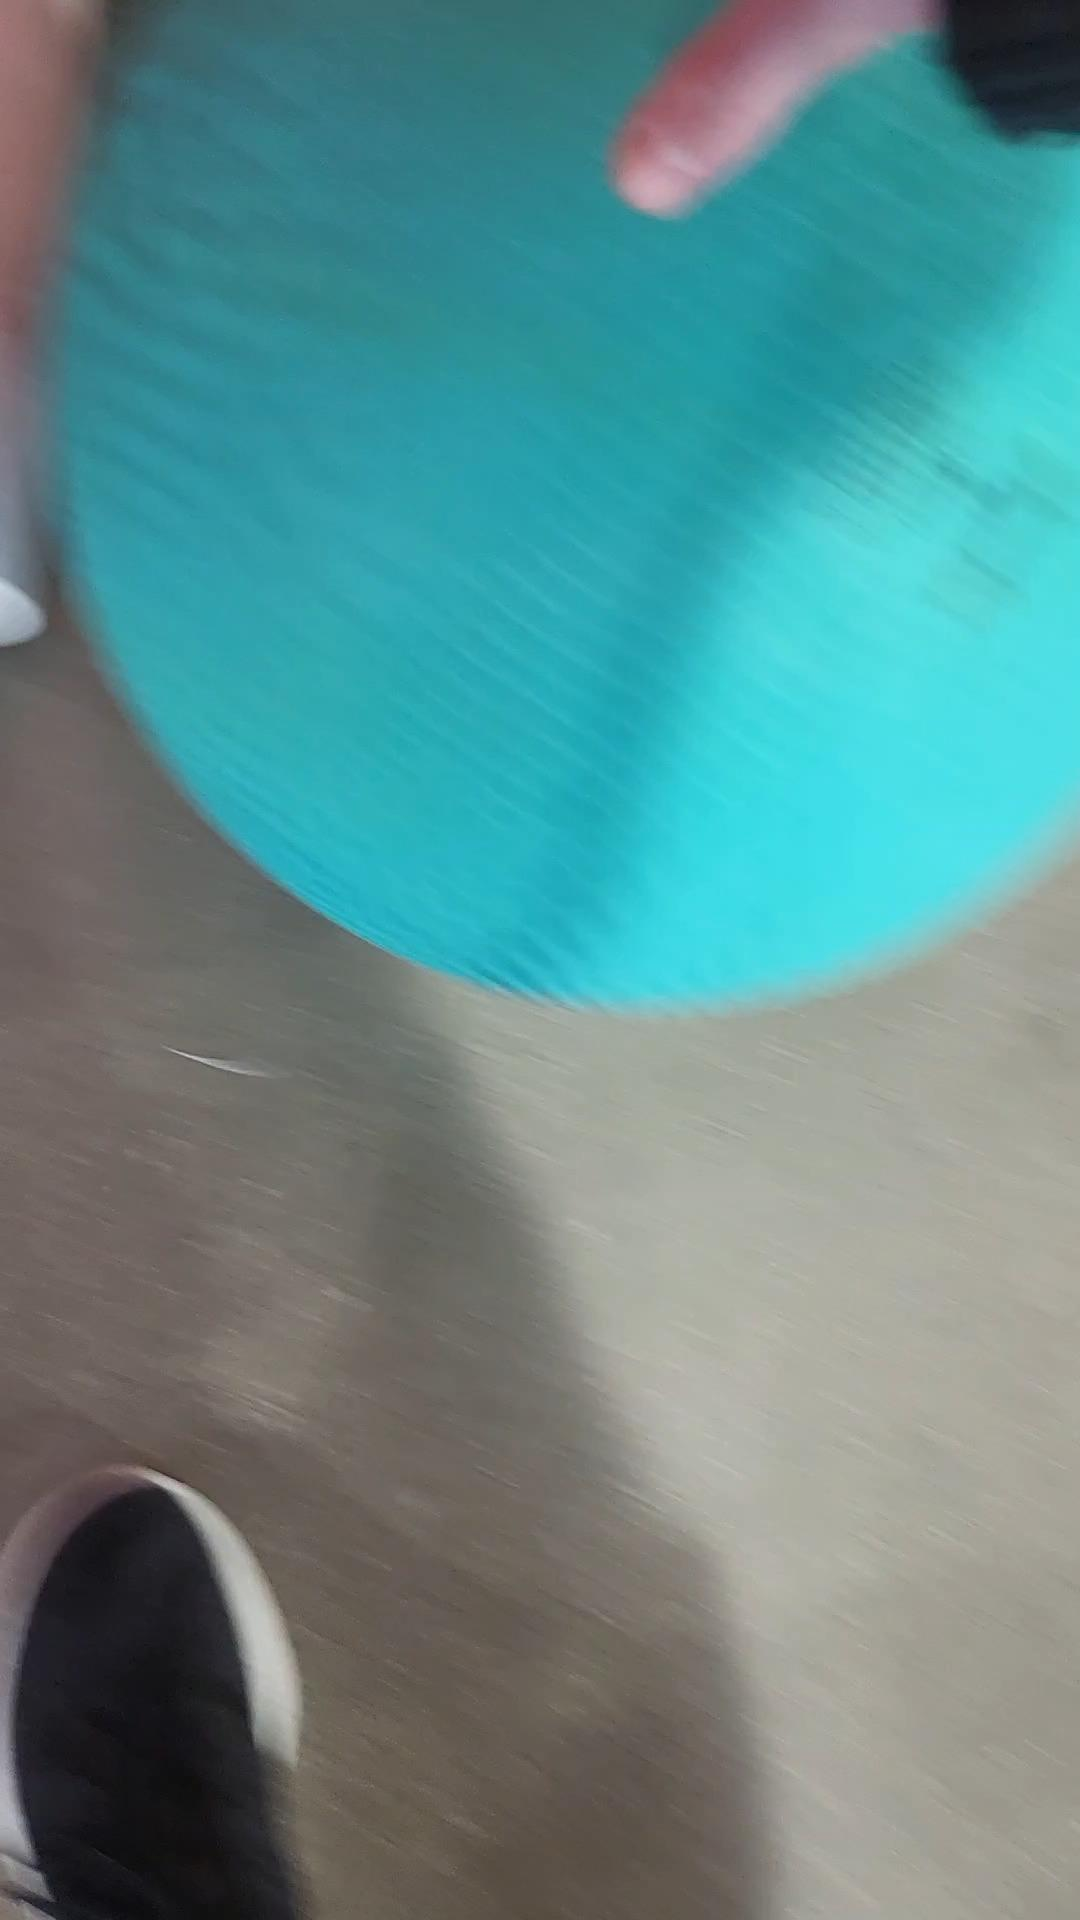algae: (21, 0, 1080, 1009)
